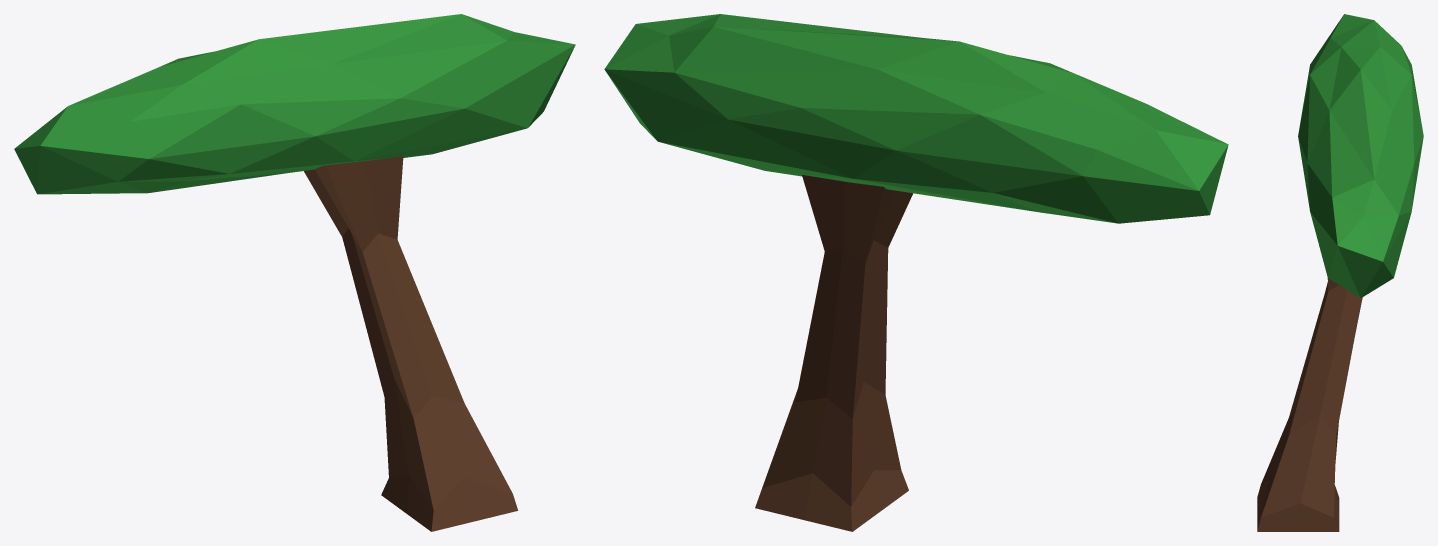
The model's file is Tree_36_Green.fbx.
3 views of the same model, side by side, from view 1: azimuth 30°, elevation 25°; view 2: azimuth 150°, elevation 25°; view 3: azimuth 270°, elevation 25° (orthographic). The views are drawn at different scales.
Parts seen in each view (by area): view 1: Tree_36_Green_Part_1, Tree_36_Green_Part_2; view 2: Tree_36_Green_Part_1, Tree_36_Green_Part_2; view 3: Tree_36_Green_Part_1, Tree_36_Green_Part_2.
Boxes of the visible parts, box(x1,y1,x2,y2) form: Tree_36_Green_Part_1: box(14, 14, 575, 194); Tree_36_Green_Part_2: box(304, 155, 518, 531); Tree_36_Green_Part_1: box(604, 14, 1228, 223); Tree_36_Green_Part_2: box(755, 175, 912, 531); Tree_36_Green_Part_1: box(1298, 14, 1423, 297); Tree_36_Green_Part_2: box(1257, 278, 1362, 531).
Bounding box in the file's own units: 795 × 675 × 265.
